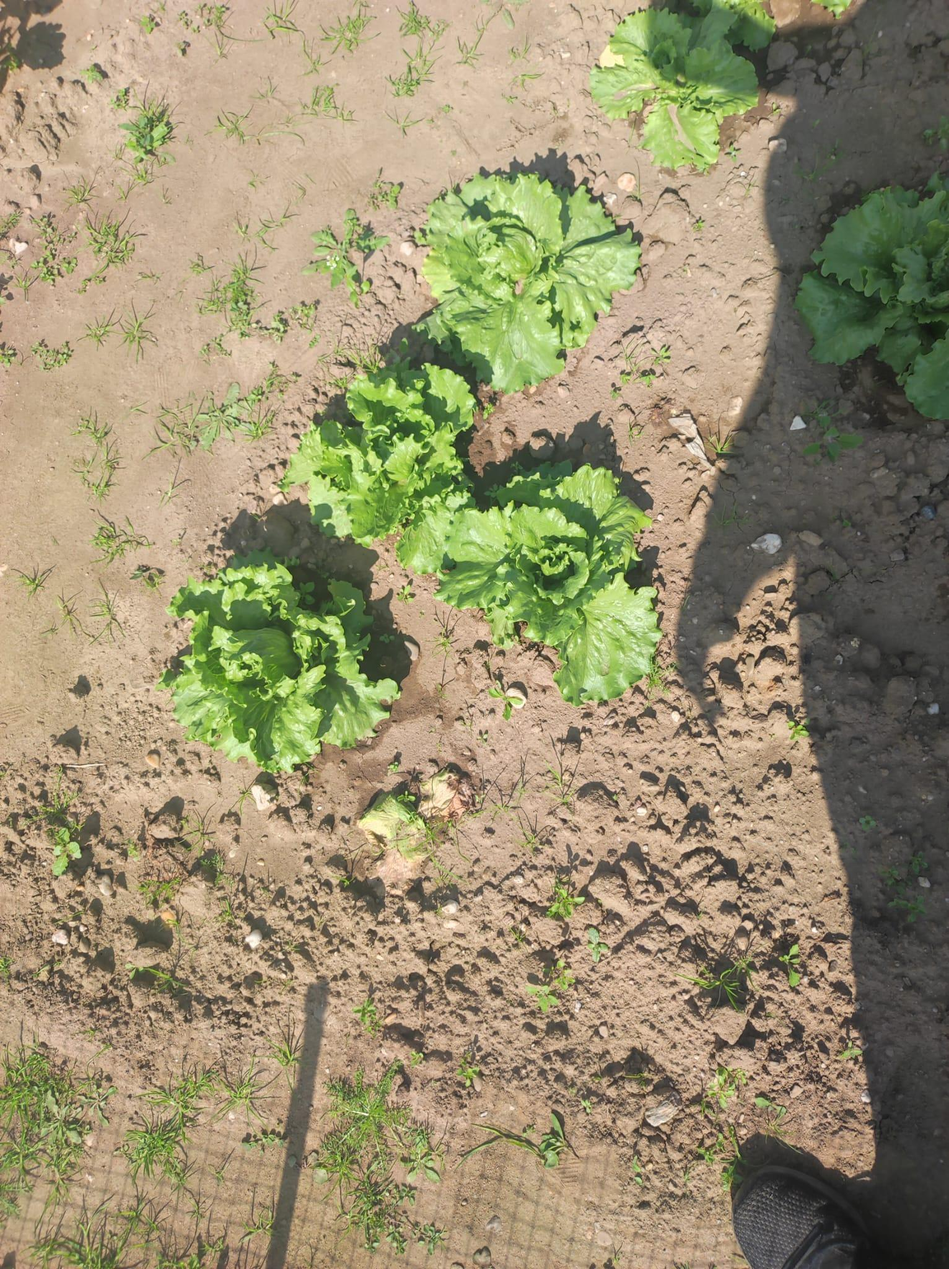Healthy: (436, 465, 661, 704), (157, 554, 398, 773), (418, 172, 641, 392), (281, 362, 475, 573), (796, 174, 949, 419), (592, 0, 776, 169)
